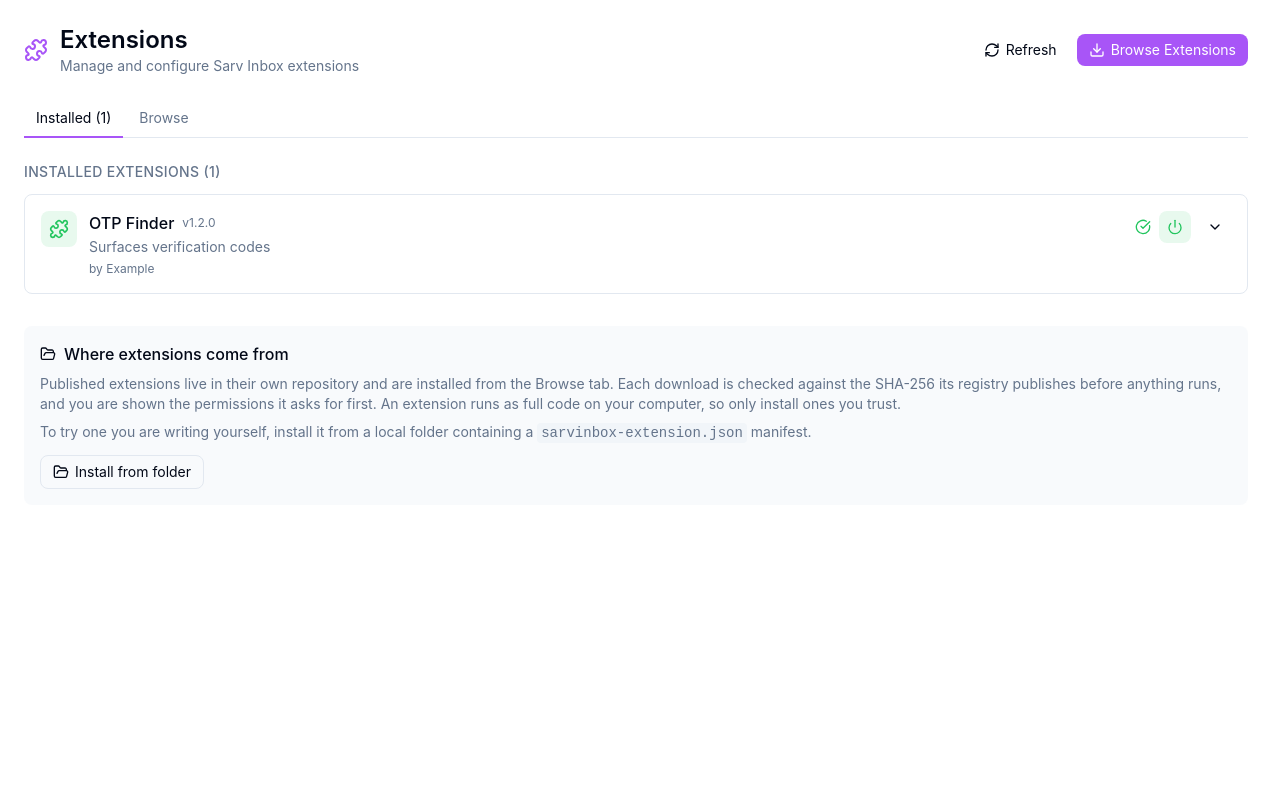
ExtensionManager tooltips › names the expand chevron and, once open, Uninstall
Hover over the button named "Show details" at (1215, 227), box [1199,211,1231,243]
Wait 100 ms
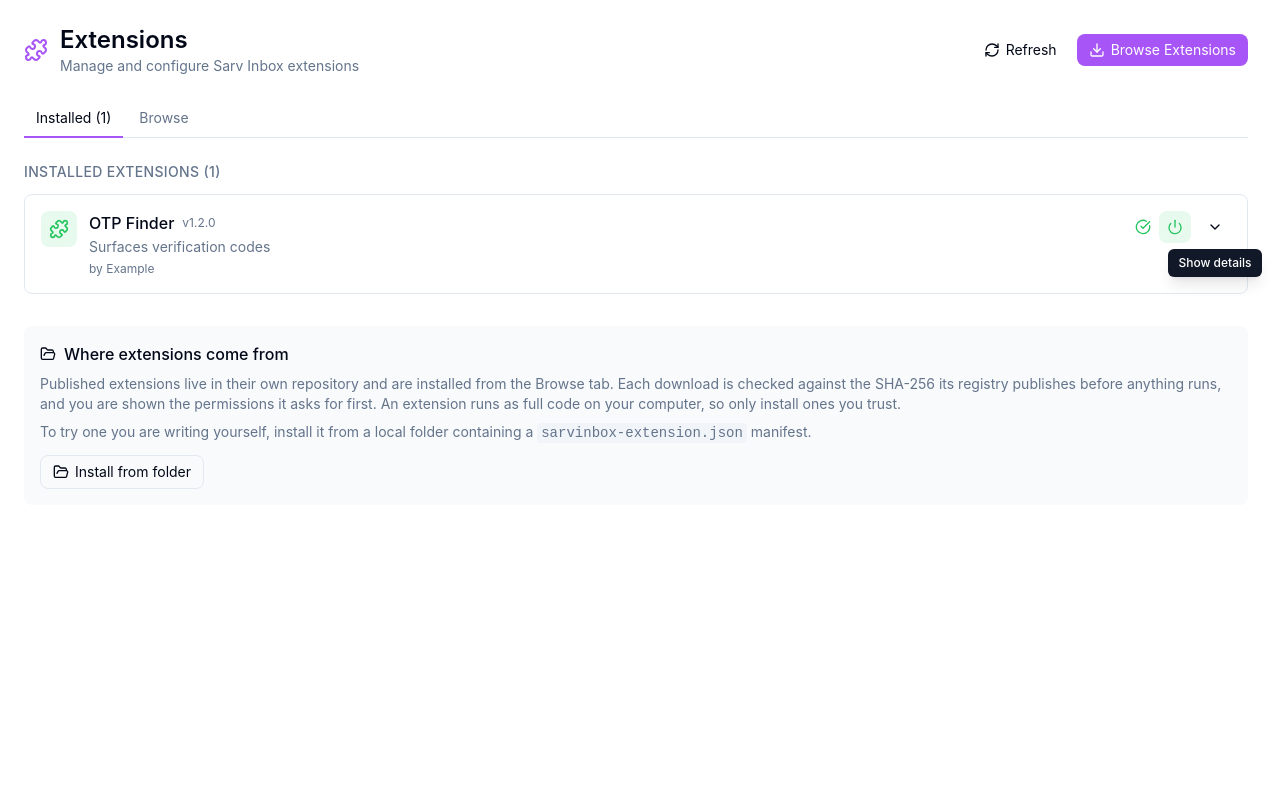
Now the text "Show details" is shown, box [1178,255,1252,271]
Move the pointer off the button named "Show details", box [1199,211,1231,243]
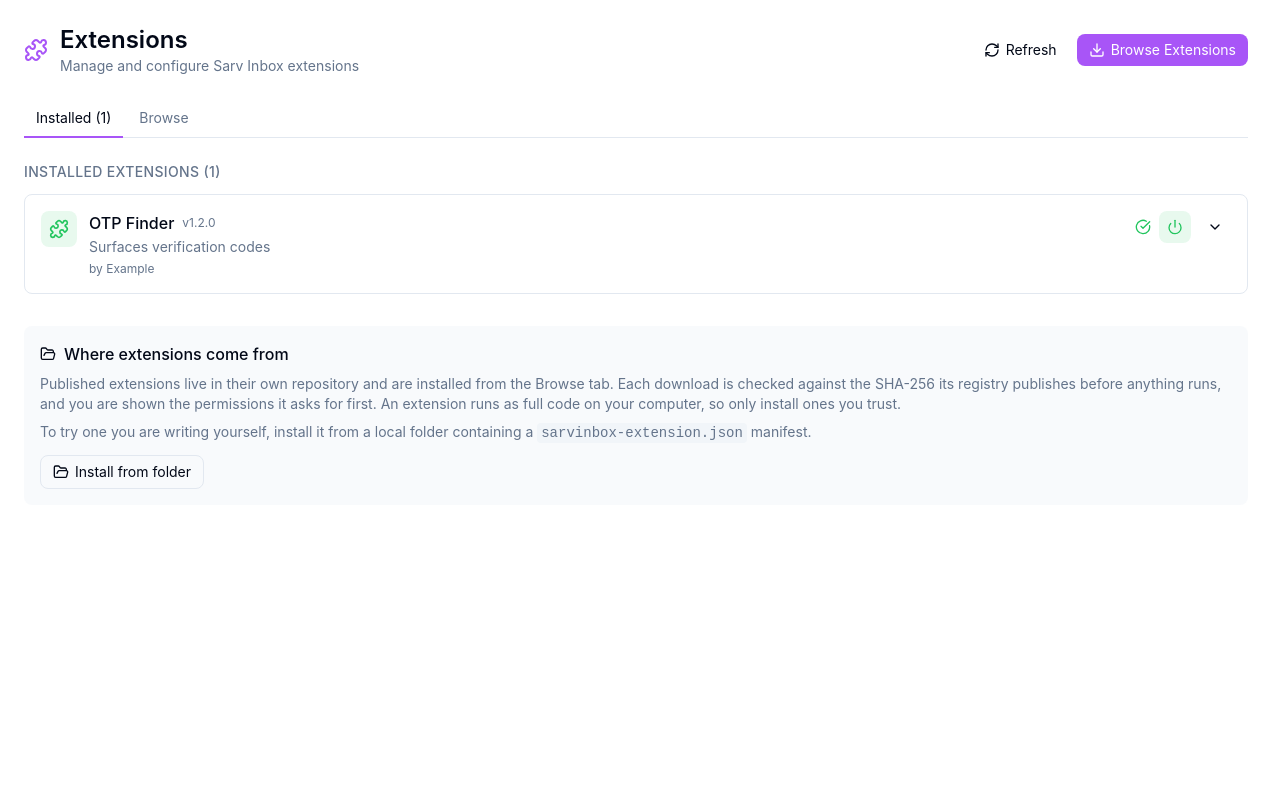
Click the button named "Show details" at (1215, 227), box [1199,211,1231,243]
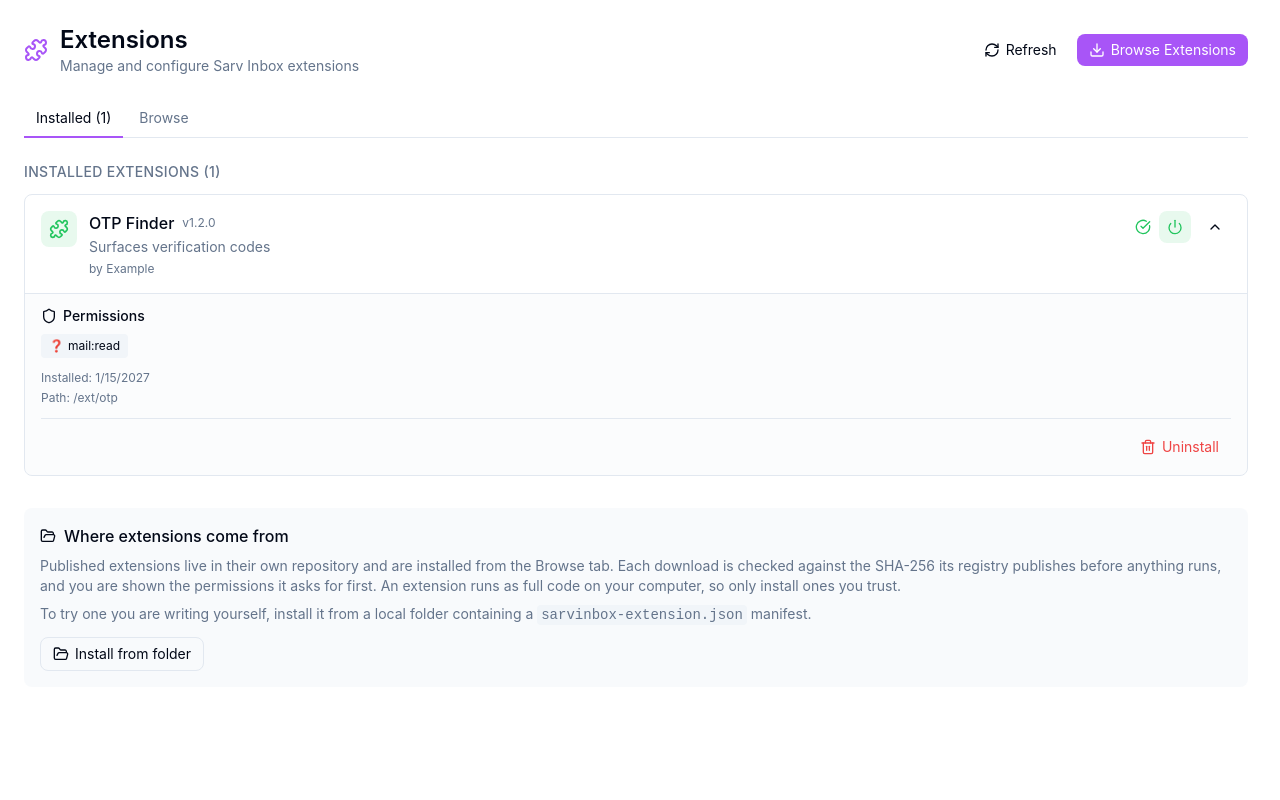
Now the button "Uninstall" is shown
Hover over the button "Uninstall" at (1180, 447), box [1128,431,1231,463]
Wait 100 ms
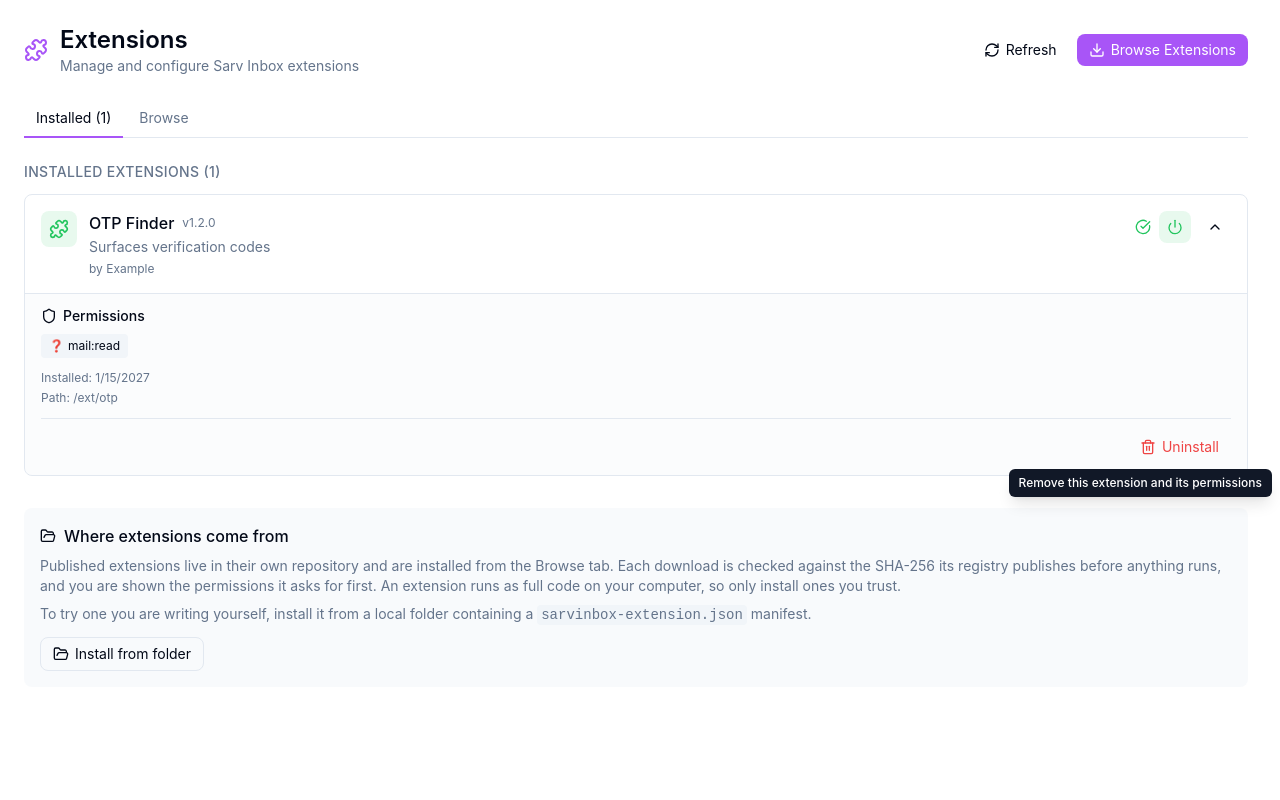
Now the text "Remove this extension and its permissions" is shown, box [1018,475,1262,491]
